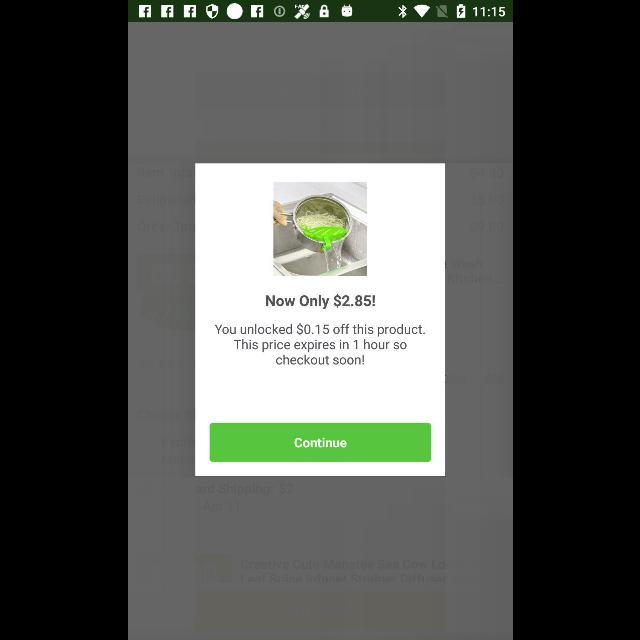image: (273, 182, 367, 276)
panel: (195, 164, 445, 476)
text: (214, 323, 424, 365), (266, 294, 374, 310)
textbutton: (210, 423, 430, 462)
uppertaskbar: (128, 1, 512, 23)
